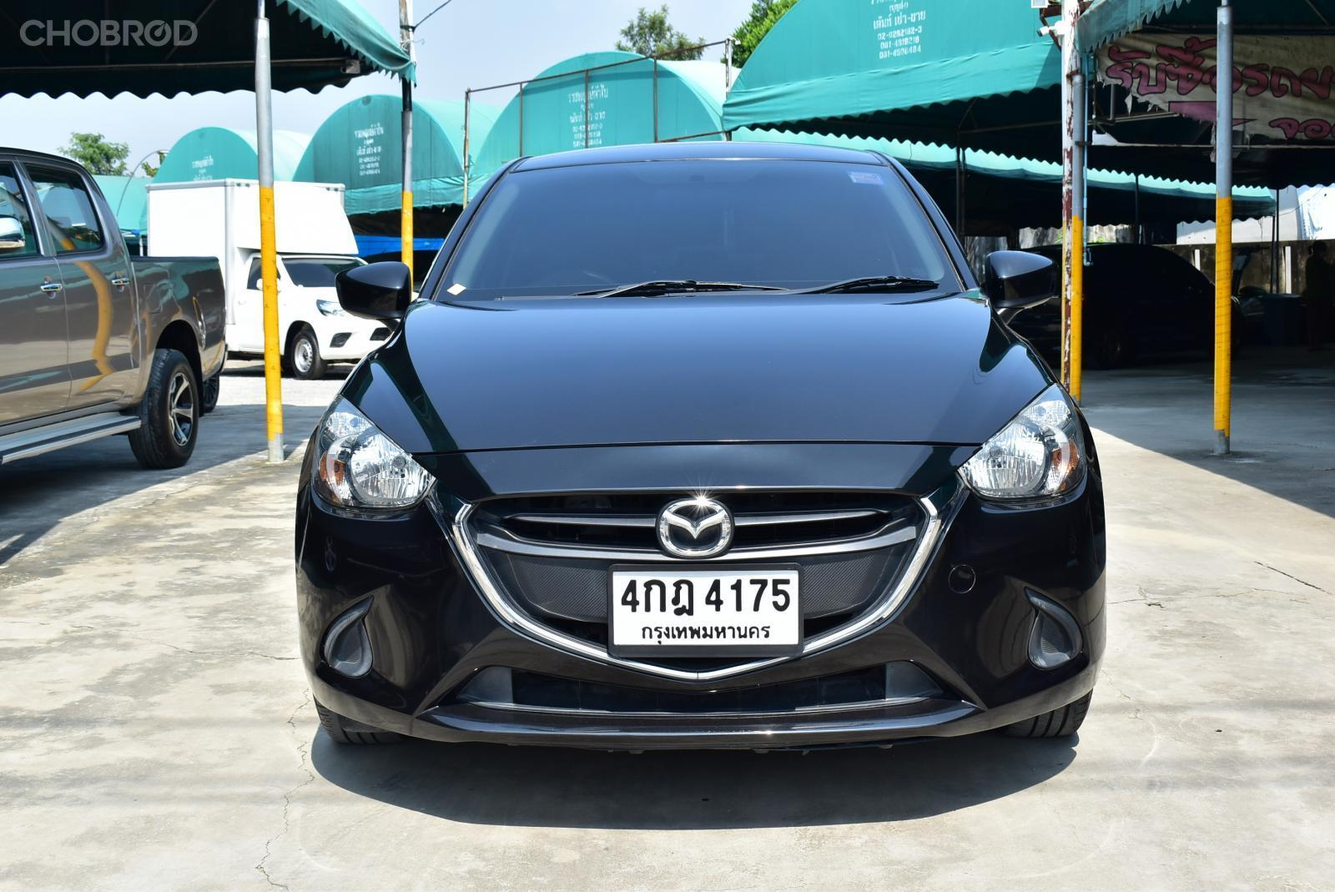license-plate: (604, 557, 807, 656)
